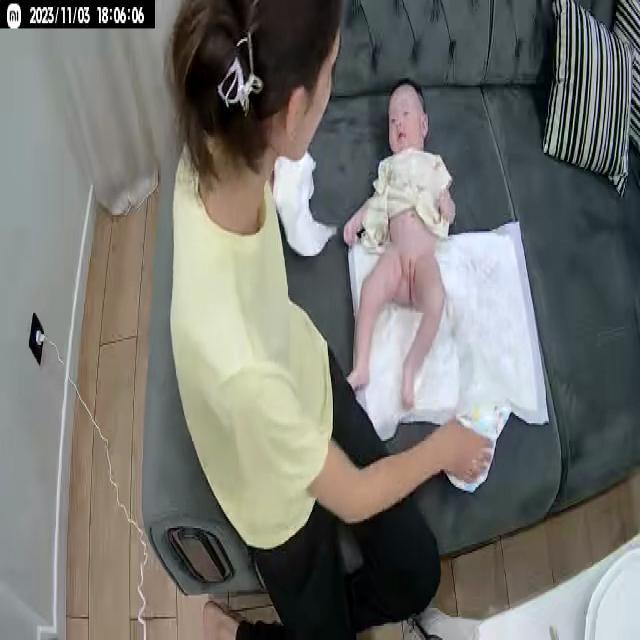baby: (347, 79, 452, 418)
